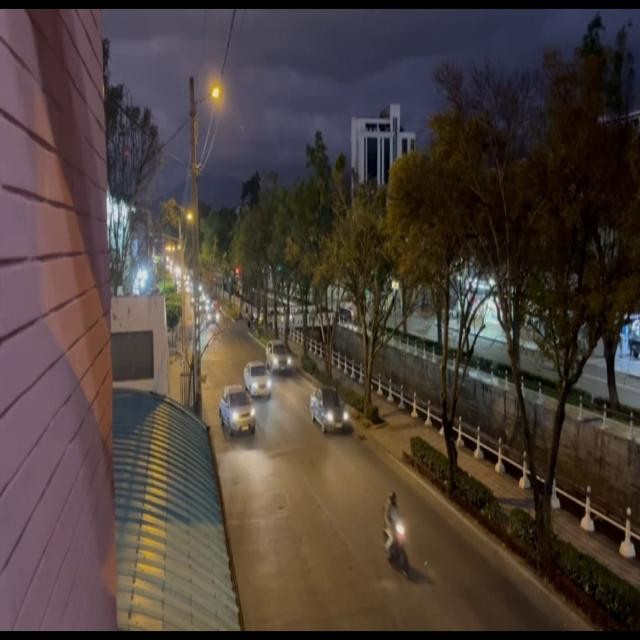MOTORCYCLE: (378, 504, 408, 588)
SUV: (312, 390, 346, 434), (245, 362, 270, 396), (268, 341, 292, 373)
